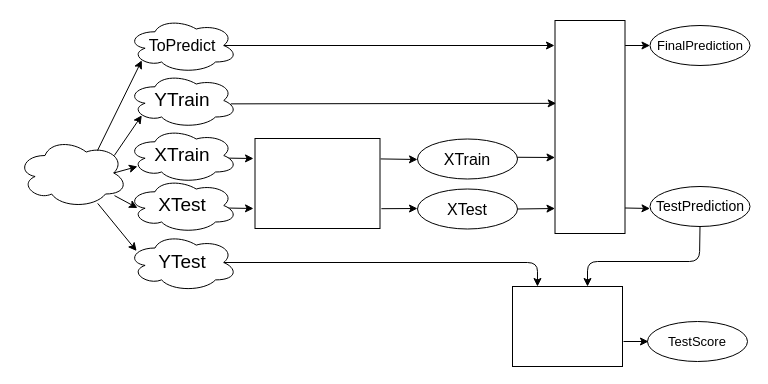
The diagram is 768 pixels wide and 384 high, and some of its shapes have lost their labels. Each missing label, with the centre of its shape:
Model: pixel 589 127
RAW: pixel 72 172
Score Calculator: pixel 567 326
XTransformer: pixel 317 183
